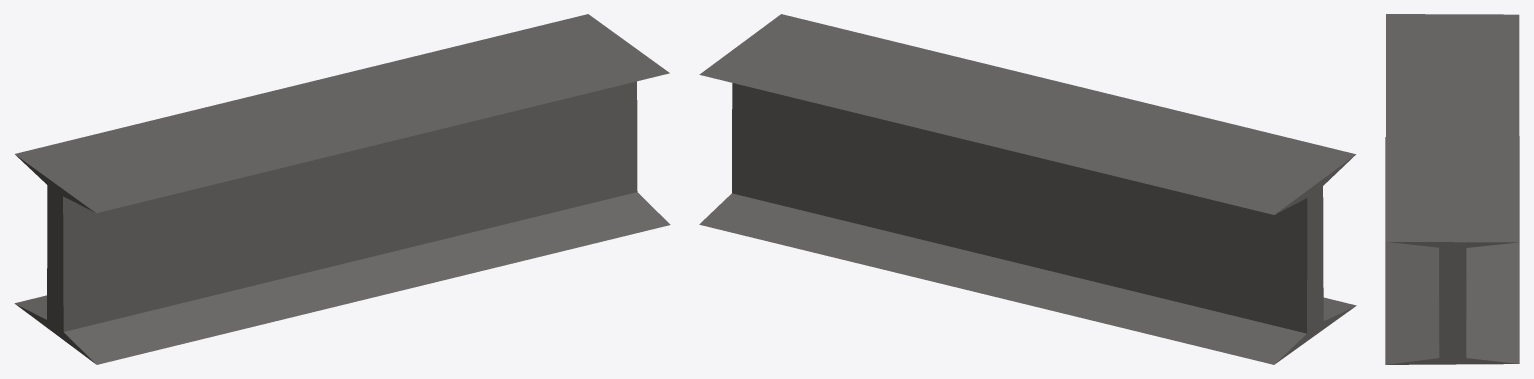
File: metal.fbx
The picture shows the model from 3 angles, left to right: view 1: azimuth 30°, elevation 25°; view 2: azimuth 150°, elevation 25°; view 3: azimuth 270°, elevation 25°; orthographic projection. The views are drawn at different scales.
Visible parts, largest first — view 1: Cylinder; view 2: Cylinder; view 3: Cylinder.
Part boxes in pixels (x1,y1,x2,y2): Cylinder: (14, 14, 670, 364); Cylinder: (699, 14, 1356, 364); Cylinder: (1385, 14, 1519, 364).
Bounding box in the file's own units: 99.72 × 400 × 101.
1 material, 1 textured.
